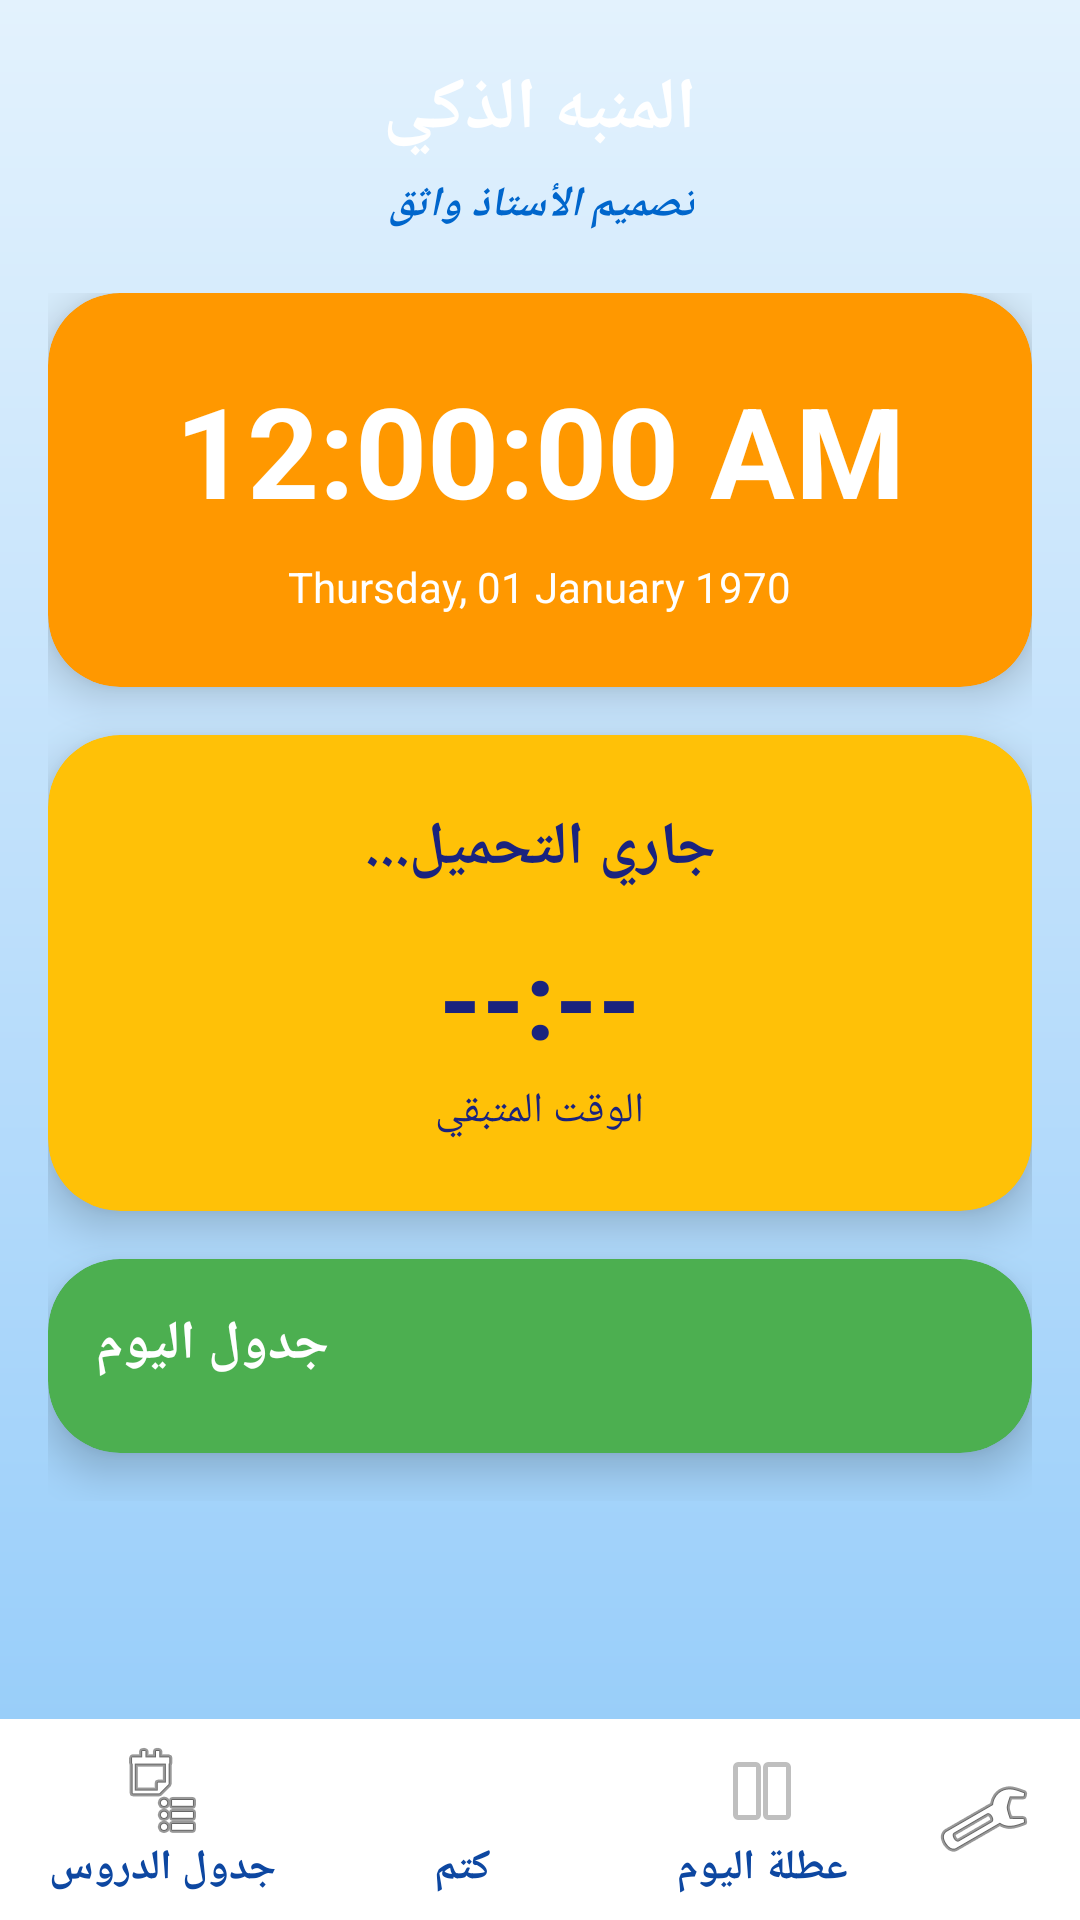

Icon bounding boxes for this 1080 x 1920 phone screenshot, format (x1, y1, x2, y2):
preferences: (941, 1786, 1027, 1852)
